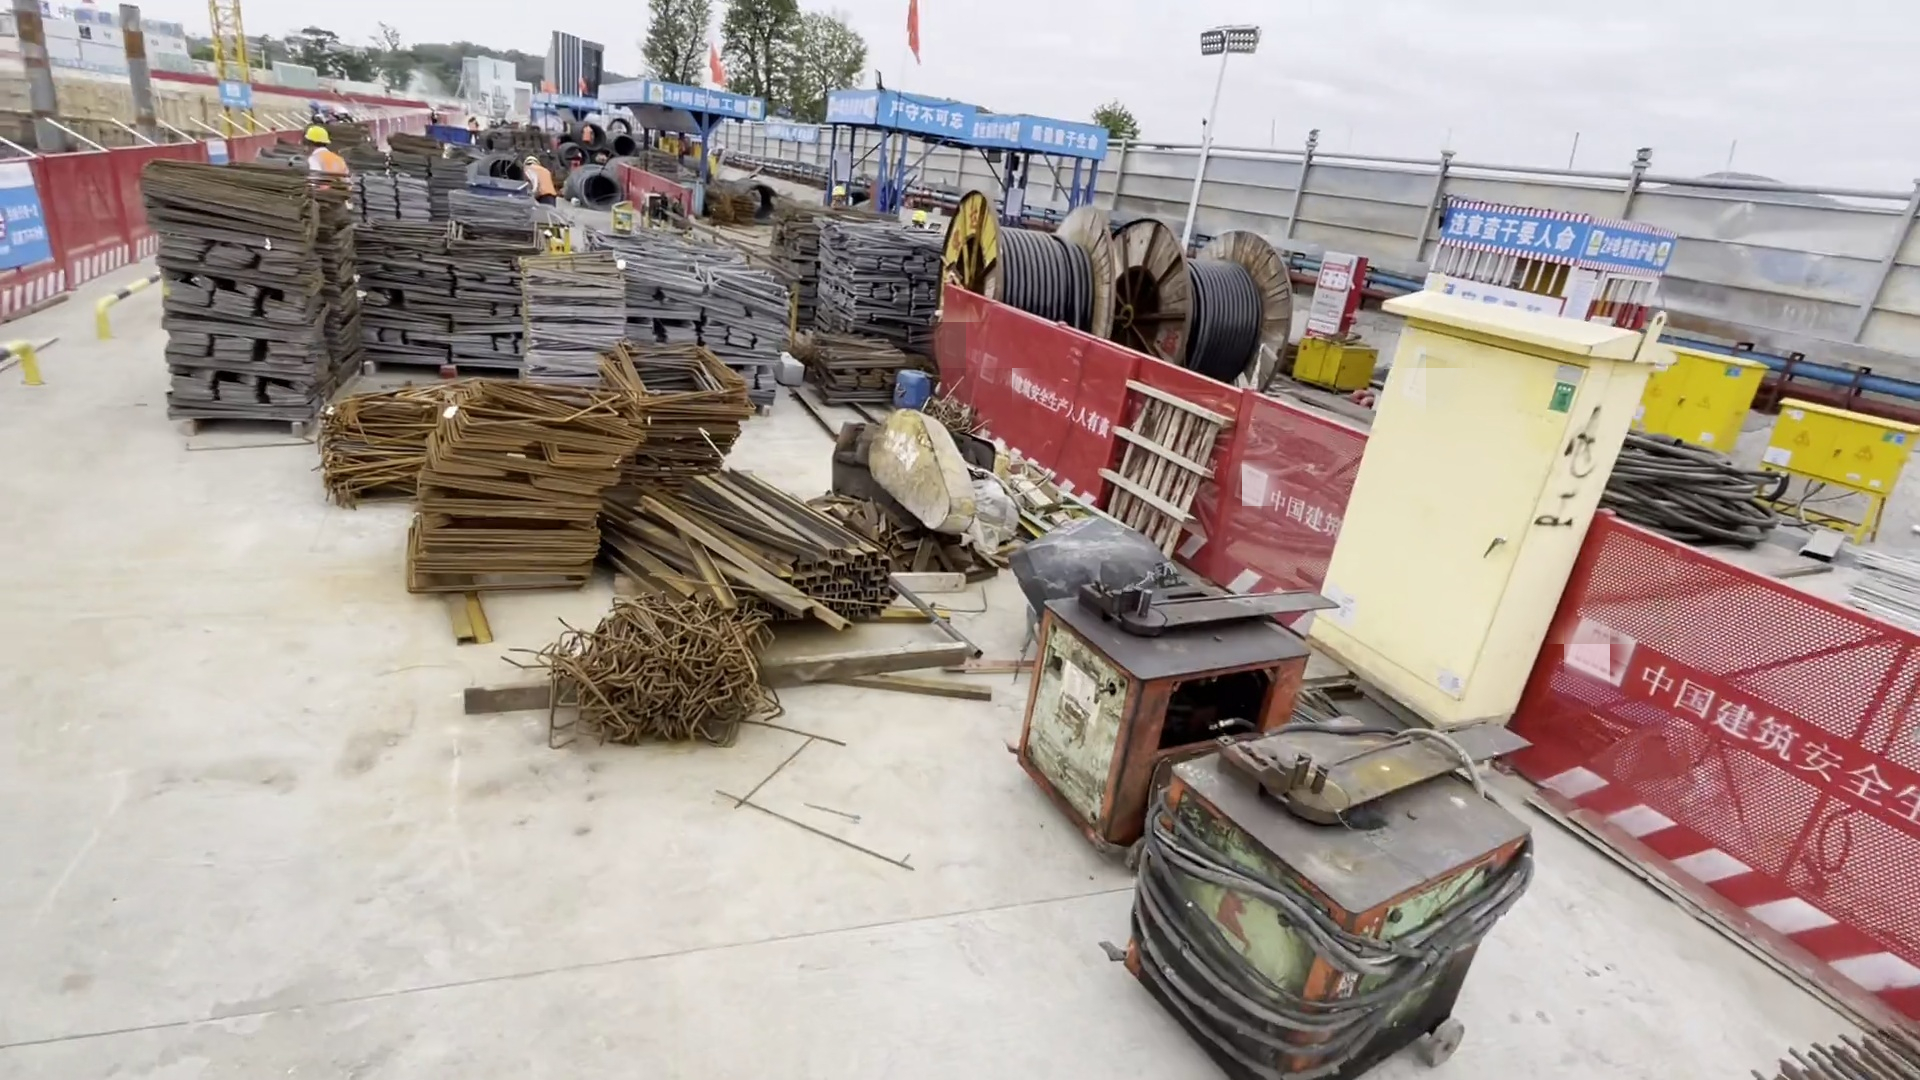ebox: (1307, 284, 1683, 789), (1641, 328, 1908, 537)
fence: (1506, 509, 1912, 1043), (929, 290, 1329, 626), (1, 135, 239, 300)
helmet: (303, 127, 329, 144), (912, 209, 927, 225), (832, 185, 844, 197)
person: (297, 126, 349, 208), (518, 152, 558, 220)
vest: (524, 163, 553, 199), (310, 149, 342, 174)
